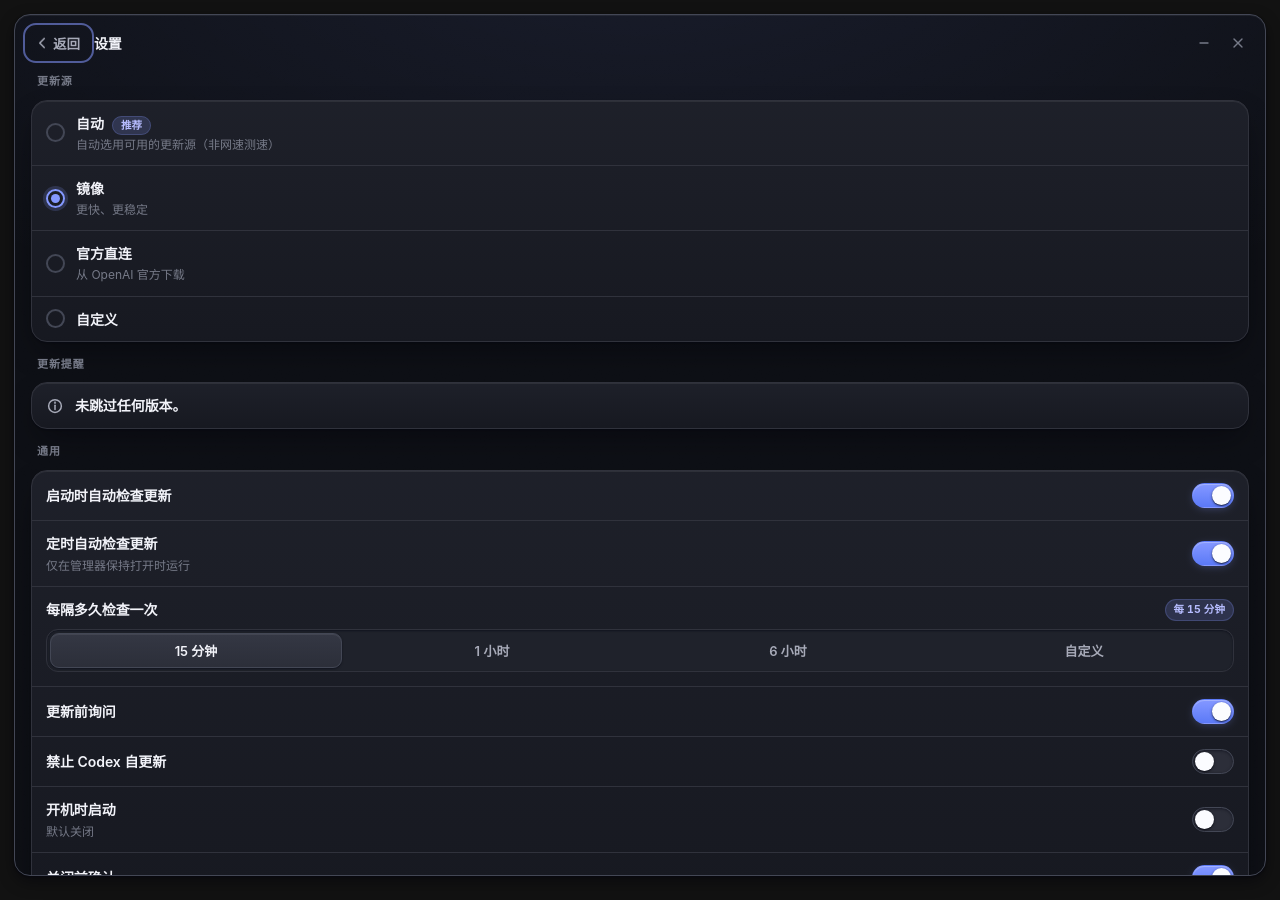
Test case: Settings runtime contract › does not persist empty custom source selection until a URL is entered
What coordinates should you click on to do the following:
click the 1st radio button labelled "自定义"
I would click on:
 (97, 319)
Its box is [32,296,1248,341].
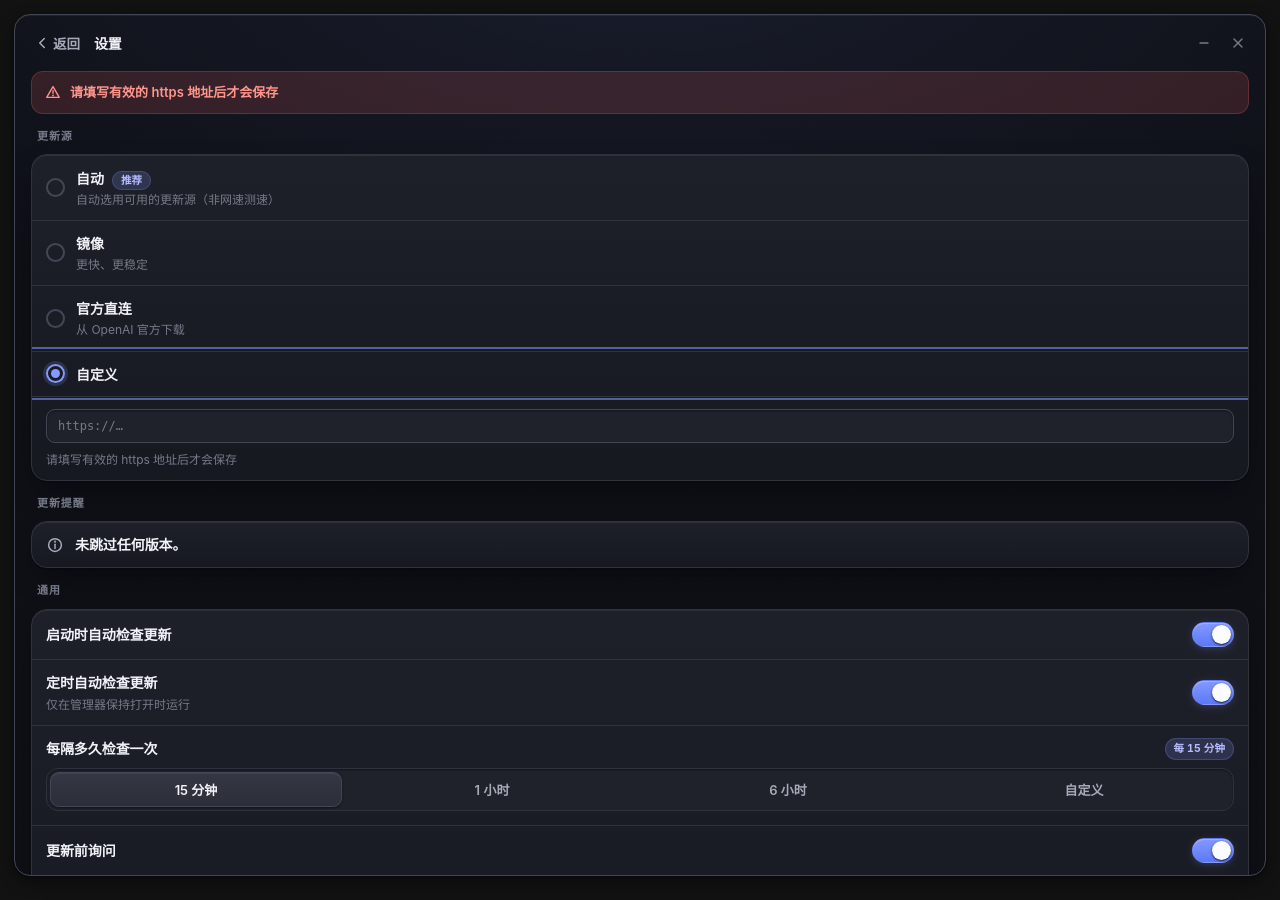
Now the 1st text "请填写有效的 https 地址后才会保存" is shown, box [70,83,278,102]
